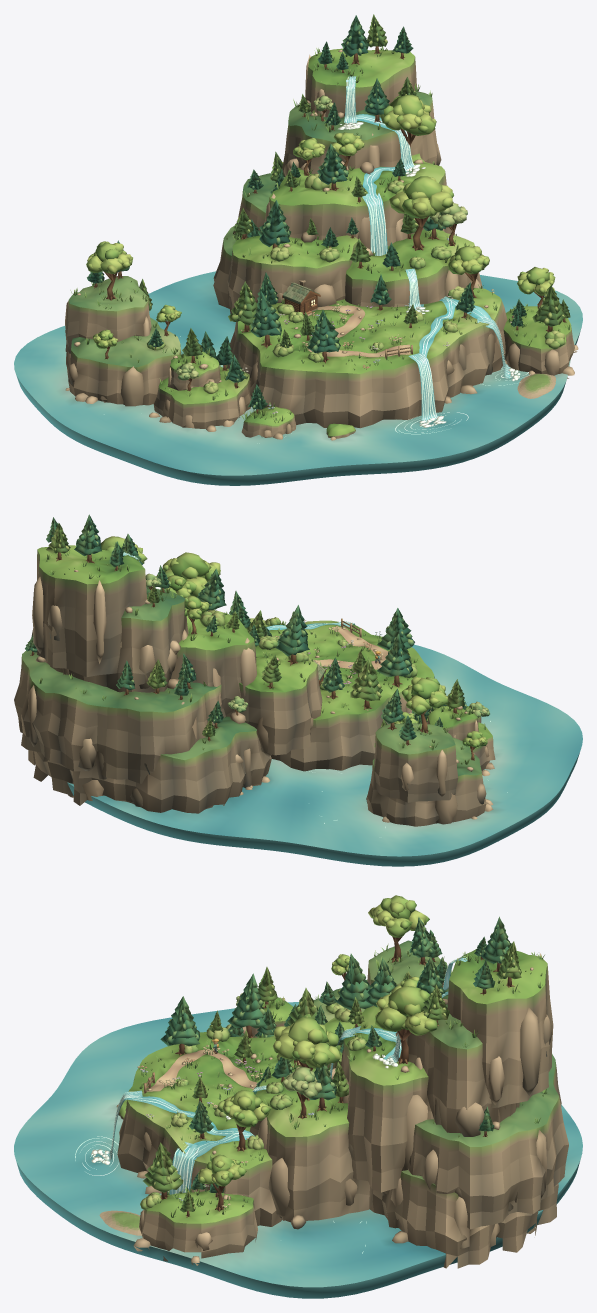
Rendered from valley.glb.
3 renders of one model, top to bottom at view 1: azimuth 30°, elevation 25°; view 2: azimuth 150°, elevation 25°; view 3: azimuth 270°, elevation 25°, orthographic. The views are drawn at different scales.
Visible parts, largest first — view 1: Cliffs and Terraces · Clay and Grass, Turquoise Lake · Lake Water, Forest · Pine Needles, Meadow and Wildflowers · Meadow, Streams and Waterfalls · Cascade Water, Streams and Waterfalls · Water Highlights, Forest · Cabin Timber, Winding Footpath · Clay and Grass, Trail Cabin · Cabin Timber, Elephant Bank · Clay and Grass; view 2: Cliffs and Terraces · Clay and Grass, Turquoise Lake · Lake Water, Forest · Pine Needles, Meadow and Wildflowers · Meadow, Forest · Cabin Timber, Winding Footpath · Clay and Grass; view 3: Cliffs and Terraces · Clay and Grass, Turquoise Lake · Lake Water, Forest · Pine Needles, Meadow and Wildflowers · Meadow, Streams and Waterfalls · Cascade Water, Forest · Cabin Timber, Streams and Waterfalls · Water Highlights, Winding Footpath · Clay and Grass, Elephant Bank · Clay and Grass.
Part boxes in pixels (x1=…): Cliffs and Terraces · Clay and Grass: x1=65, y1=48, x2=578, y2=440; Turquoise Lake · Lake Water: x1=14, y1=271, x2=582, y2=485; Forest · Pine Needles: x1=86, y1=14, x2=570, y2=409; Meadow and Wildflowers · Meadow: x1=70, y1=46, x2=570, y2=422; Streams and Waterfalls · Cascade Water: x1=344, y1=76, x2=510, y2=422; Streams and Waterfalls · Water Highlights: x1=338, y1=76, x2=520, y2=427; Forest · Cabin Timber: x1=93, y1=46, x2=566, y2=413; Winding Footpath · Clay and Grass: x1=307, y1=305, x2=410, y2=357; Trail Cabin · Cabin Timber: x1=282, y1=280, x2=320, y2=316; Elephant Bank · Clay and Grass: x1=517, y1=373, x2=555, y2=398; Cliffs and Terraces · Clay and Grass: x1=14, y1=545, x2=495, y2=826; Turquoise Lake · Lake Water: x1=67, y1=644, x2=582, y2=866; Forest · Pine Needles: x1=25, y1=514, x2=489, y2=747; Meadow and Wildflowers · Meadow: x1=36, y1=551, x2=485, y2=771; Forest · Cabin Timber: x1=30, y1=552, x2=478, y2=760; Winding Footpath · Clay and Grass: x1=313, y1=627, x2=388, y2=669; Cliffs and Terraces · Clay and Grass: x1=116, y1=940, x2=568, y2=1268; Turquoise Lake · Lake Water: x1=14, y1=1002, x2=582, y2=1298; Forest · Pine Needles: x1=143, y1=895, x2=521, y2=1212; Meadow and Wildflowers · Meadow: x1=137, y1=943, x2=546, y2=1217; Streams and Waterfalls · Cascade Water: x1=105, y1=957, x2=467, y2=1194; Forest · Cabin Timber: x1=160, y1=936, x2=514, y2=1217; Streams and Waterfalls · Water Highlights: x1=91, y1=956, x2=466, y2=1193; Winding Footpath · Clay and Grass: x1=146, y1=1049, x2=257, y2=1091; Elephant Bank · Clay and Grass: x1=99, y1=1210, x2=141, y2=1235.
Bounding box in the file's own units: 25.72 × 13.15 × 21.62.
